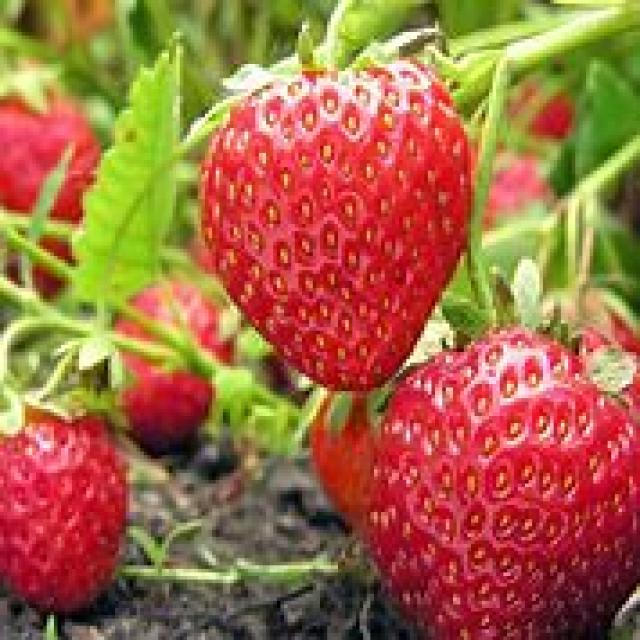Berries strawberries/blueberries: (196, 64, 470, 346), (409, 333, 640, 640), (0, 394, 128, 610)
